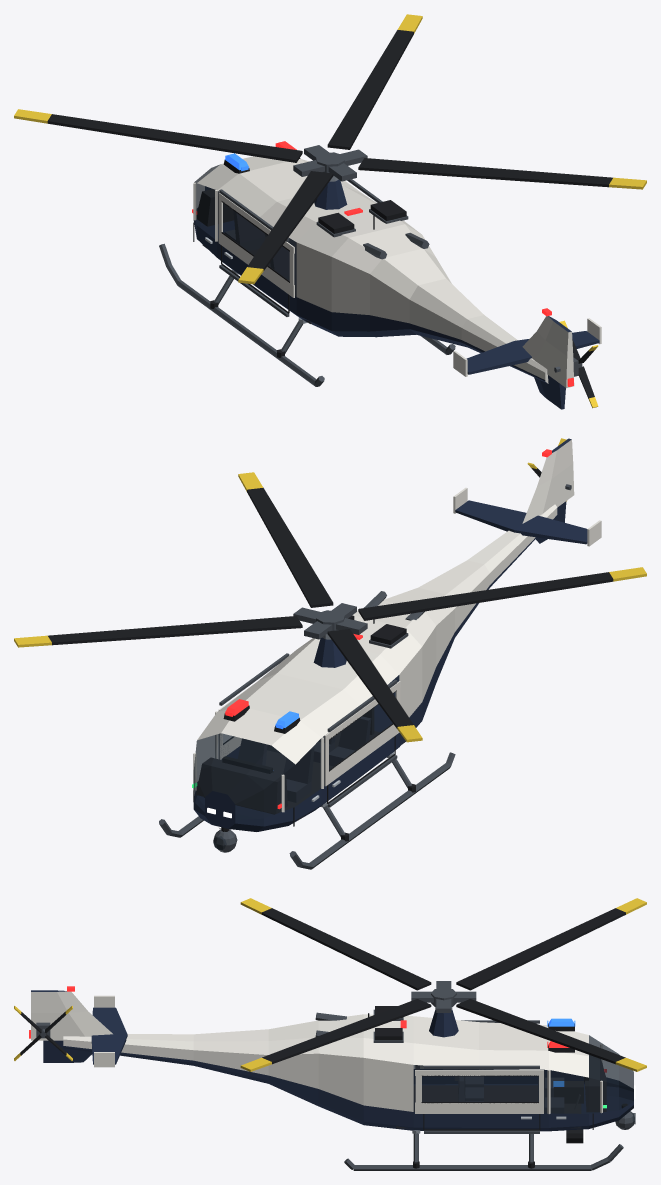
File: heli_police.glb
The picture shows the model from 3 angles, top to bottom: view 1: azimuth 30°, elevation 25°; view 2: azimuth 150°, elevation 25°; view 3: azimuth 270°, elevation 25°; orthographic projection. The views are drawn at different scales.
Visible parts, largest first — view 1: Body, RotorMain, RotorTail; view 2: Body, RotorMain; view 3: Body, RotorMain, RotorTail.
Boxes of the visible parts, x1,y1,x2,y2 form: Body: (159,156,601,409); RotorMain: (14,14,646,284); RotorTail: (559,320,598,408); Body: (159,438,601,869); RotorMain: (14,472,646,742); Body: (29,986,635,1170); RotorMain: (240,898,646,1071); RotorTail: (14,1006,72,1060).
Bounding box in the file's own units: 8.12 × 3.5 × 12.65.
